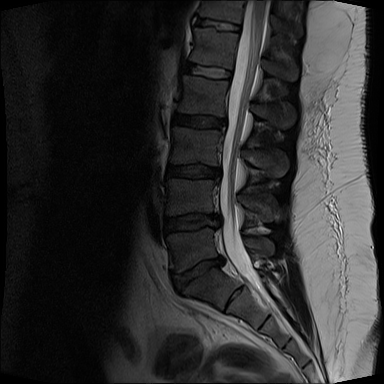Degenerative Disc Disease (DDD): (165, 106, 231, 135)
Lumbar Disc Bulge (LDB): (152, 199, 228, 244), (164, 249, 227, 301), (158, 157, 229, 183)
Normal IVD: (179, 57, 234, 84), (186, 12, 245, 35)
